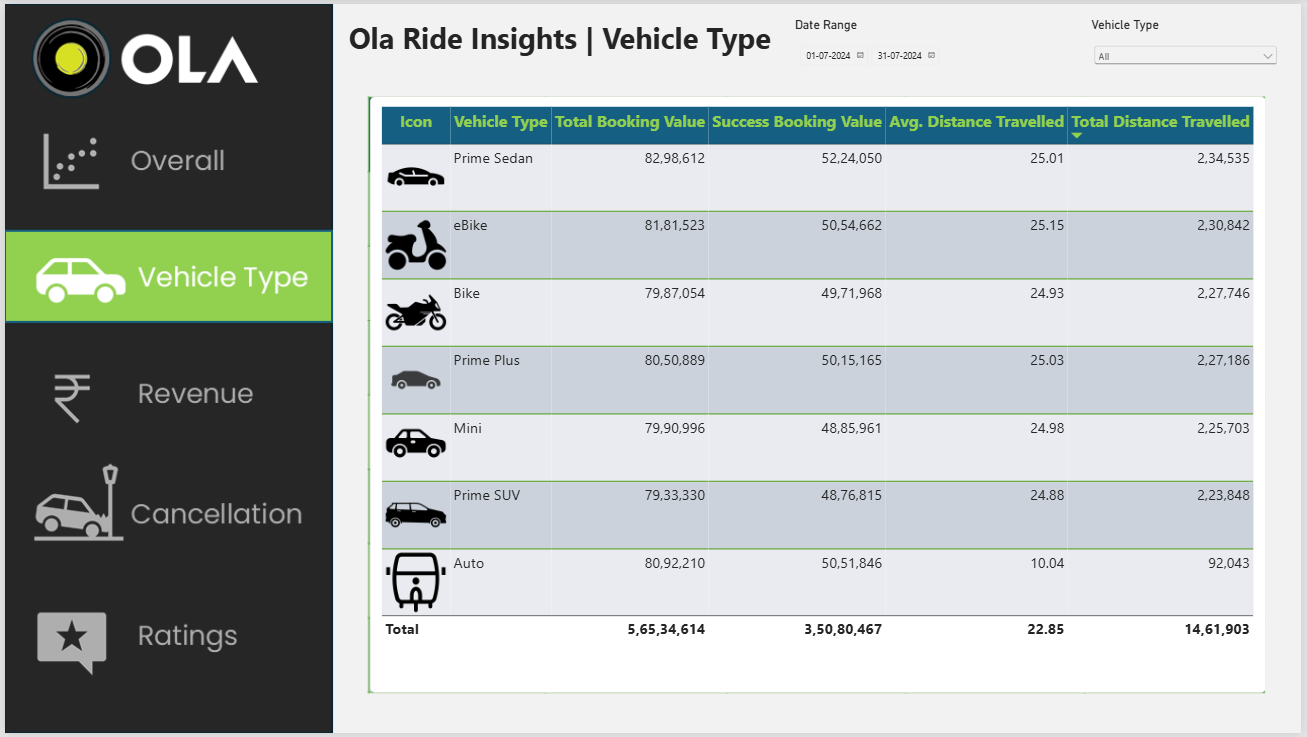

What the dashboard file says about the page in this screenshot:
{"tool":"powerbi","page":{"name":"Vehicle Type","canvas":[1920,1080],"ordinal":1},"visuals":[{"type":"slicer","title":"Date Range","fields":{"Values":["ola_rides.booking_date"]},"box":[1170,20,420,90],"z":0},{"type":"slicer","title":"Vehicle Type","fields":{"Values":["ola_rides.vehicle_type"]},"box":[1610,20,280,90],"z":1000},{"type":"textbox","box":[510,20,640,90],"z":2000},{"type":"actionButton","box":[0,171,486.9,136.3],"z":3000},{"type":"actionButton","box":[0,517.5,486.6,132.5],"z":4000},{"type":"actionButton","box":[0,690,486.6,132.5],"z":5000},{"type":"actionButton","box":[0,869.7,483,136.2],"z":6000},{"type":"tableEx","fields":{"Values":["ola_rides.vehicle_image_url","ola_rides.vehicle_type","ola_rides.Total Booking Value","ola_rides.Success Booking Value","ola_rides.Avg Ride Distance","ola_rides.Total Distance Travelled"]},"box":[540,137,1327,883],"z":7000}]}

Visuals, with their boxes on the page's 1920x1080 design canvas (x1, y1, x2, y2). These are canvas units, not pixel positions in the 1307x737 screenshot, which may show the page scaled, cropped or inside an application window:
"Date Range" slicer: bbox=(1170, 20, 1590, 110)
"Vehicle Type" slicer: bbox=(1610, 20, 1890, 110)
textbox: bbox=(510, 20, 1150, 110)
actionButton: bbox=(0, 171, 487, 307)
actionButton: bbox=(0, 518, 487, 650)
actionButton: bbox=(0, 690, 487, 822)
actionButton: bbox=(0, 870, 483, 1006)
tableEx - ola_rides.vehicle_image_url x ola_rides.vehicle_type: bbox=(540, 137, 1867, 1020)
